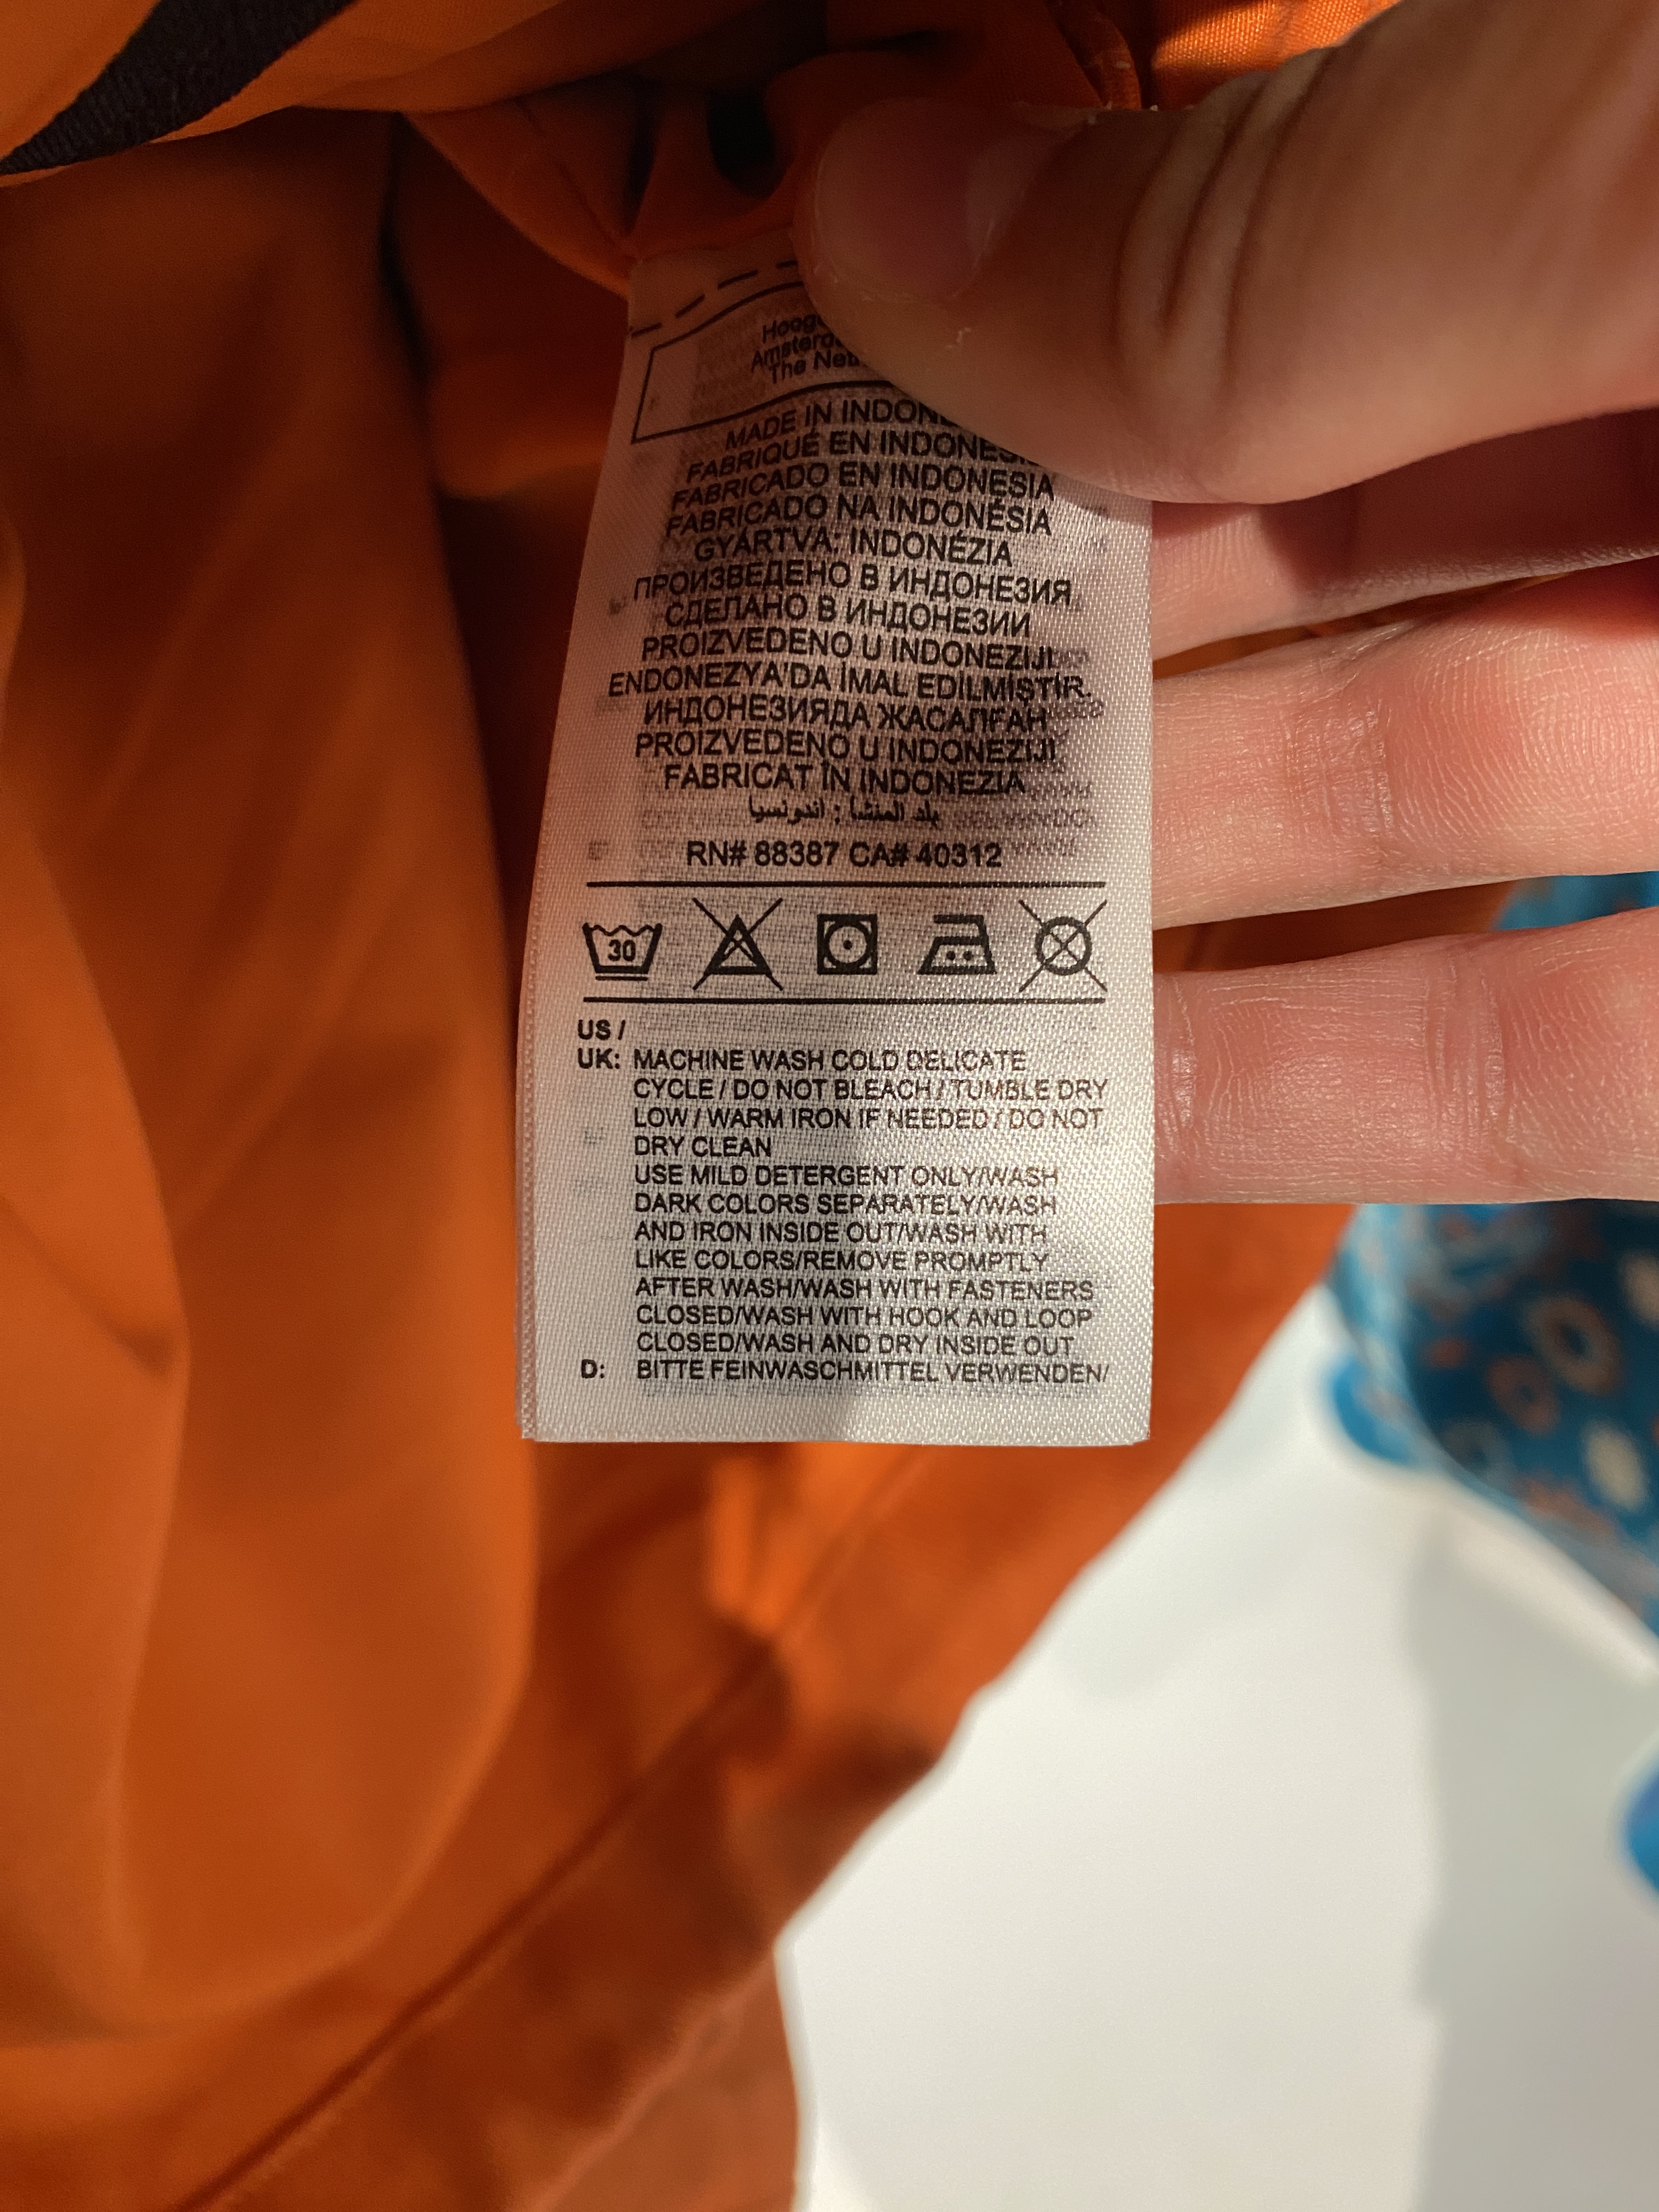icon: (688, 892, 791, 996), (1009, 894, 1114, 993), (572, 916, 667, 989), (809, 909, 892, 982), (917, 904, 1000, 977)
